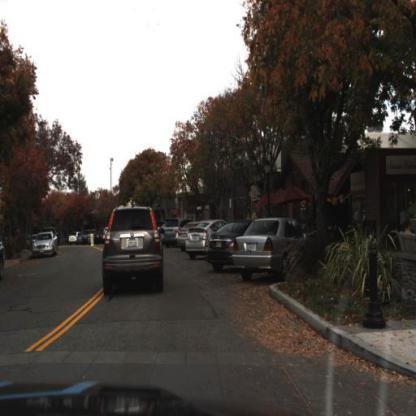car: (100, 202, 166, 295), (232, 215, 308, 281), (206, 225, 246, 271), (186, 209, 221, 251), (33, 233, 58, 259), (161, 209, 181, 241), (161, 208, 181, 238), (178, 221, 193, 253), (69, 230, 80, 243)
